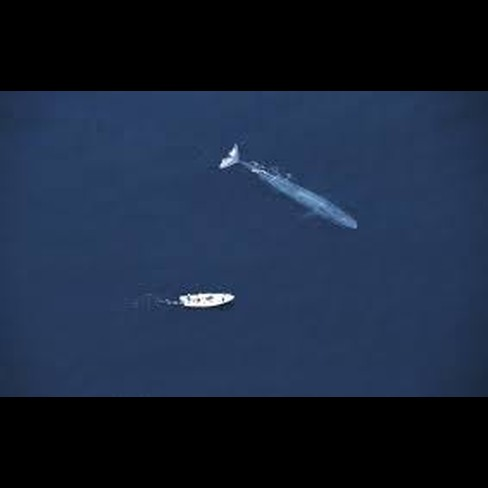bluewhale: (214, 140, 363, 236)
boat: (171, 286, 240, 314)
